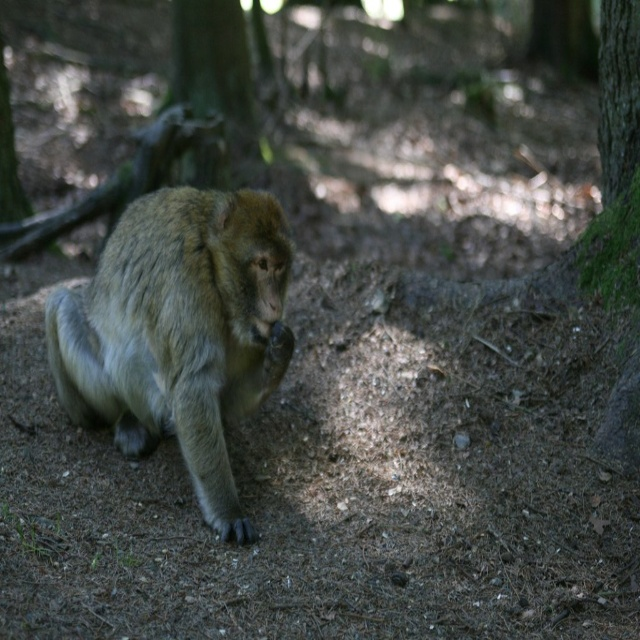Monkey: (39, 174, 295, 549)
